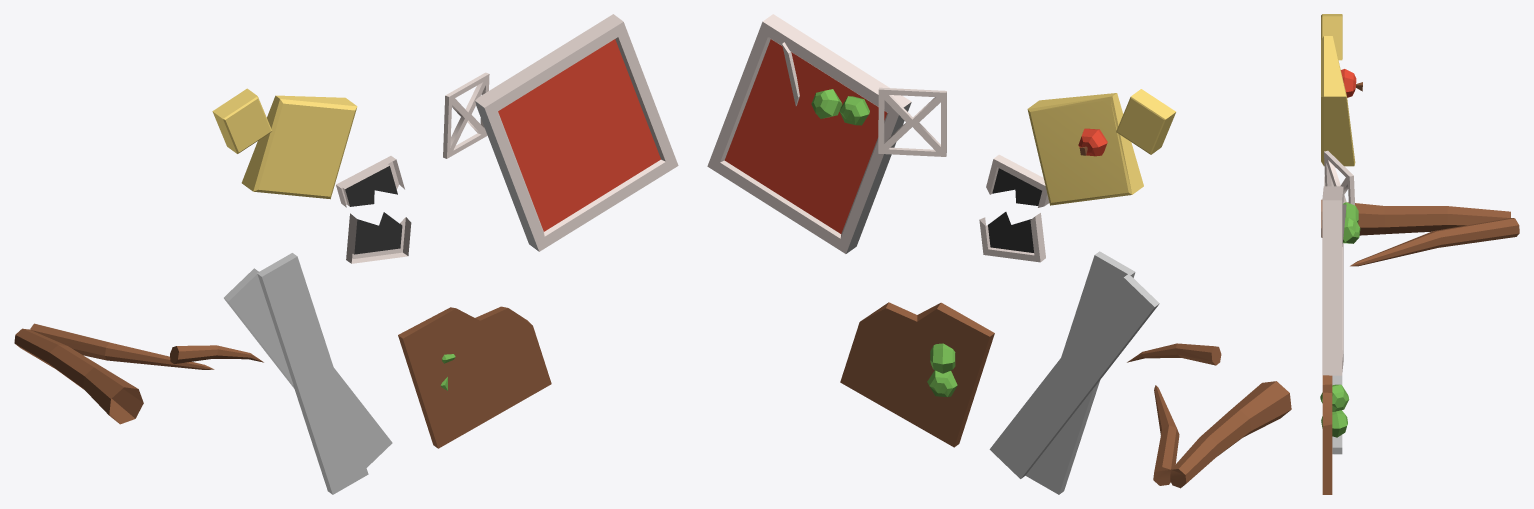
Rendered from SM_FarmRuins.FBX.
3 renders of one model, left to right at view 1: azimuth 30°, elevation 25°; view 2: azimuth 150°, elevation 25°; view 3: azimuth 270°, elevation 25°, orthographic. The views are drawn at different scales.
Visible parts, largest first — view 1: SM_BarnSceneRuins; view 2: SM_BarnSceneRuins; view 3: SM_BarnSceneRuins.
Part boxes in pixels (<box>): SM_BarnSceneRuins: <box>14,14,678,494</box>; SM_BarnSceneRuins: <box>707,14,1291,494</box>; SM_BarnSceneRuins: <box>1320,14,1519,494</box>.
Bounding box in the file's own units: 280 × 89.31 × 196.
